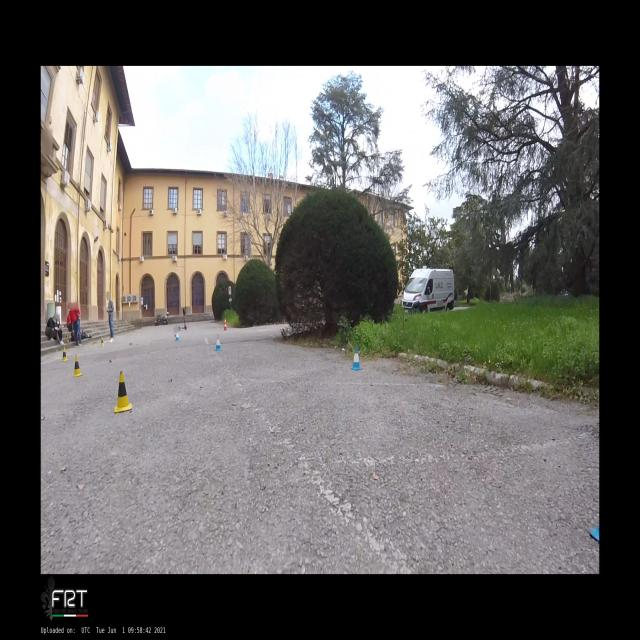blue_cone: (350, 346, 363, 371), (213, 334, 222, 351), (175, 331, 180, 341)
large_orange_cone: (224, 317, 228, 331)
unknown_cone: (66, 334, 70, 344)
yellow_cone: (114, 371, 132, 414), (72, 354, 82, 378), (62, 346, 68, 362), (100, 337, 104, 346)
